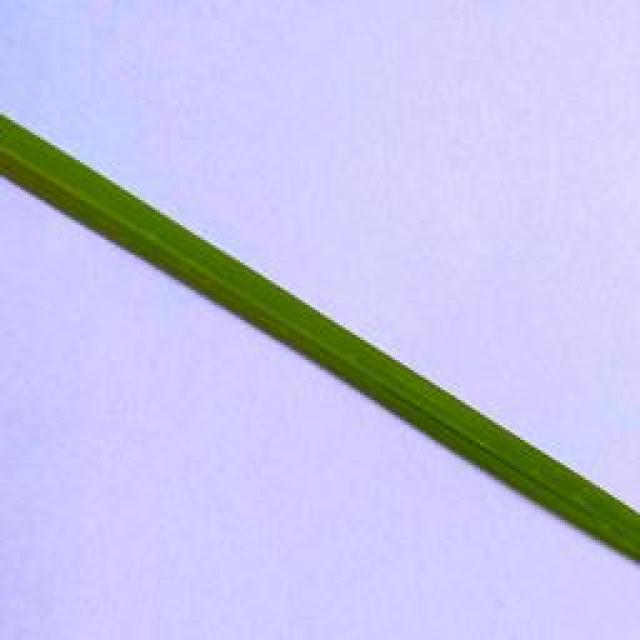Healthy: (1, 111, 640, 564)
